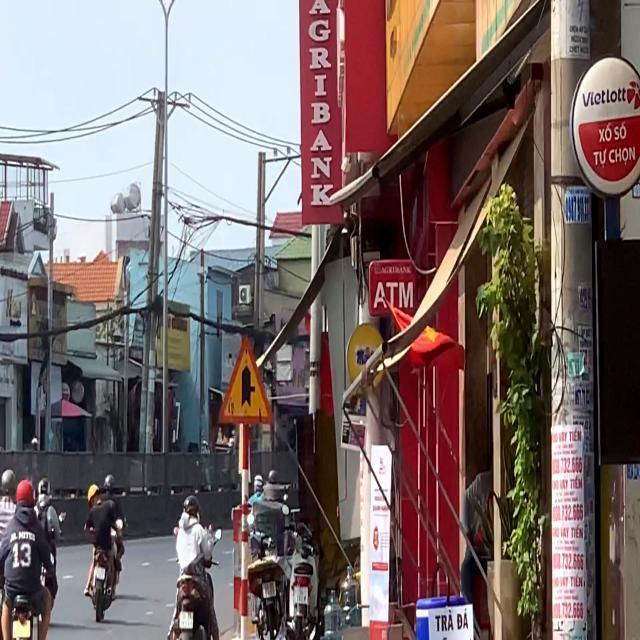207-giao-nhau-voi-duong-khong-uu-tien: (218, 338, 272, 422)
